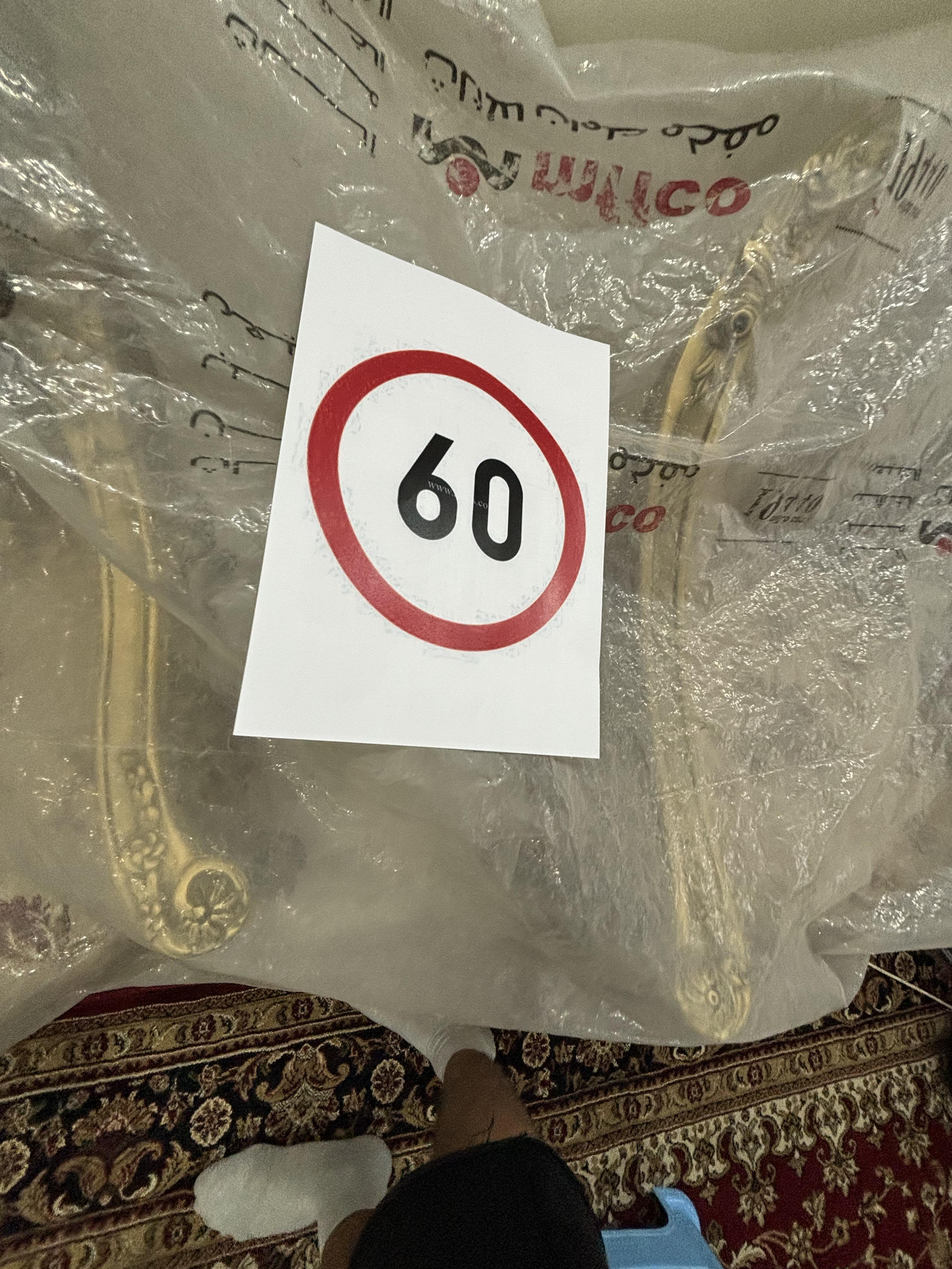60-Speed: (309, 337, 593, 651)
